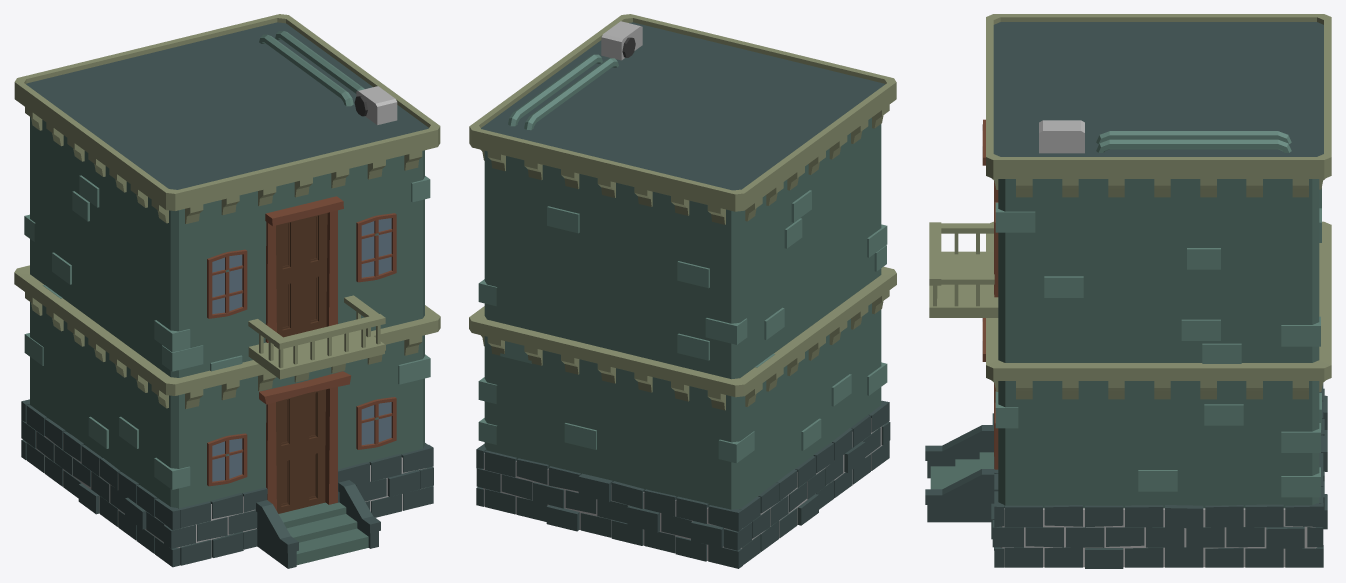
File: 2Story_Balcony_Mat.glb
The picture shows the model from 3 angles, left to right: view 1: azimuth 30°, elevation 25°; view 2: azimuth 150°, elevation 25°; view 3: azimuth 270°, elevation 25°; orthographic projection. The views are drawn at different scales.
Size of the model in its own units: 2.16 by 2.94 by 2.53.
